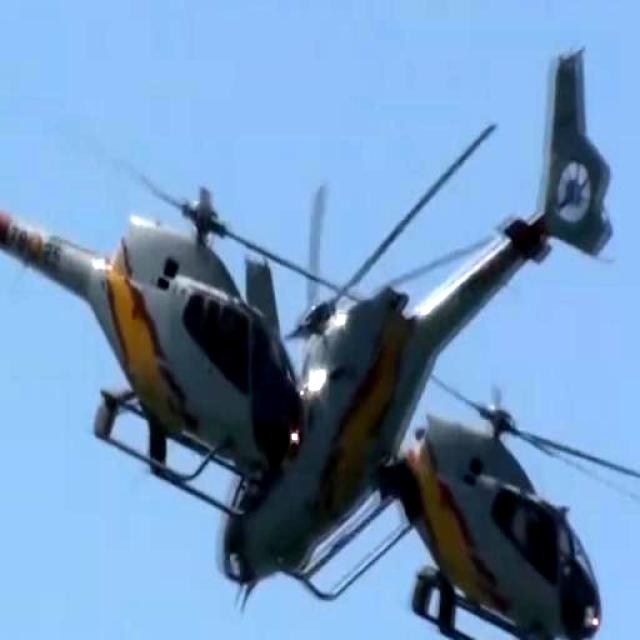drone: (236, 58, 616, 632), (0, 69, 294, 495), (410, 416, 640, 640)
